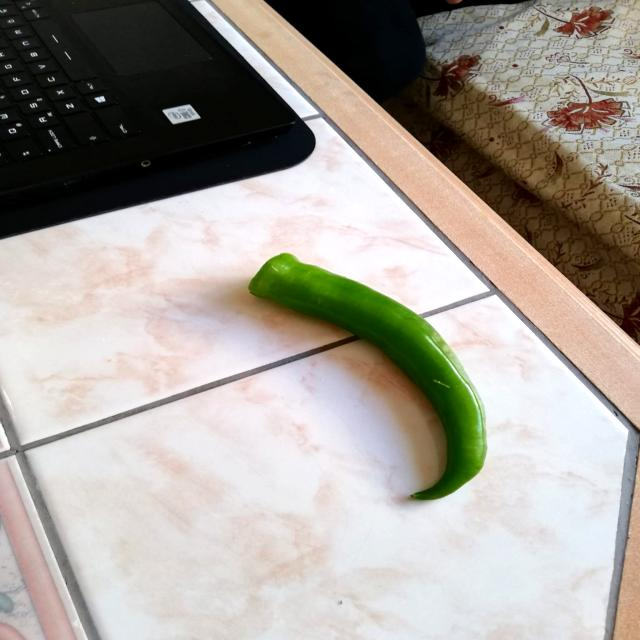green pepper: (244, 247, 498, 505)
